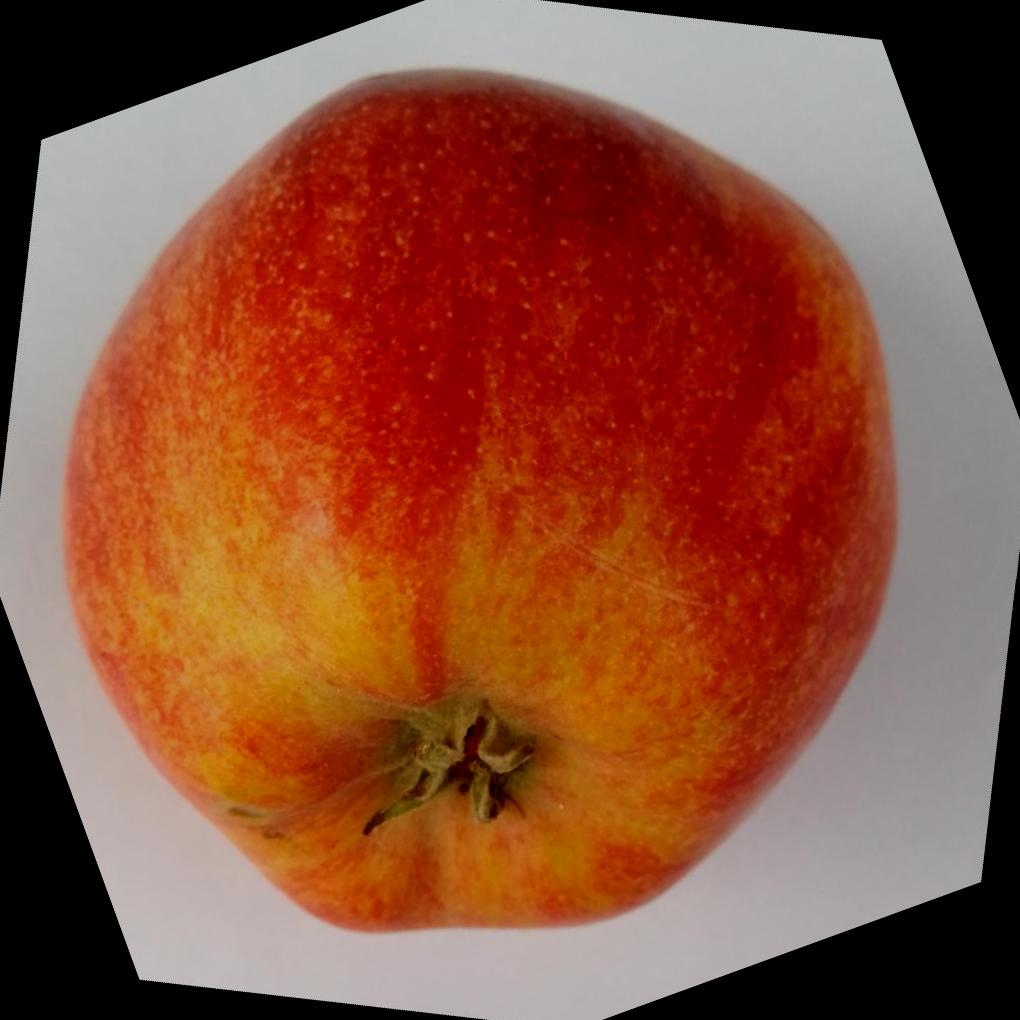FreshGuava: (58, 61, 903, 933)
